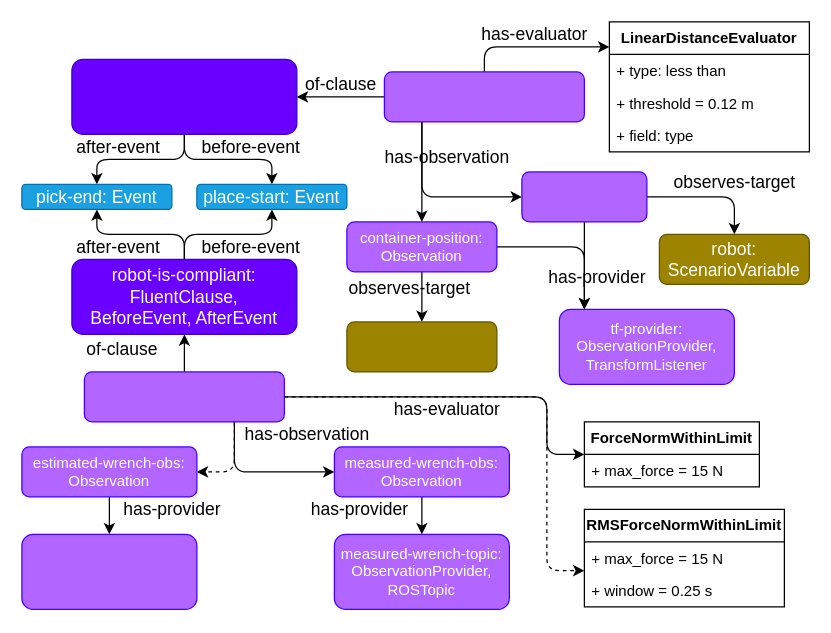
Some shapes in this 831 by 633 pixel diagram are drawn without their labels. Here are the shapes that lost their labels. From the top down, the centre of each, then its label:
At point (184, 96): "container-not-dropped : FluentClause, BeforeEvent, AfterEvent".
At point (483, 96): "tf-distance-policy: EvaluatedObservationPolicy".
At point (584, 196): "ee-position: Observation".
At point (421, 346): "container: ScenarioVariable".
At point (183, 396): "ee-force-policy: EvaluatedObservationPolicy".
At point (109, 571): "estimated-wrench-topic: ObservationProvider, ROSTopic".
